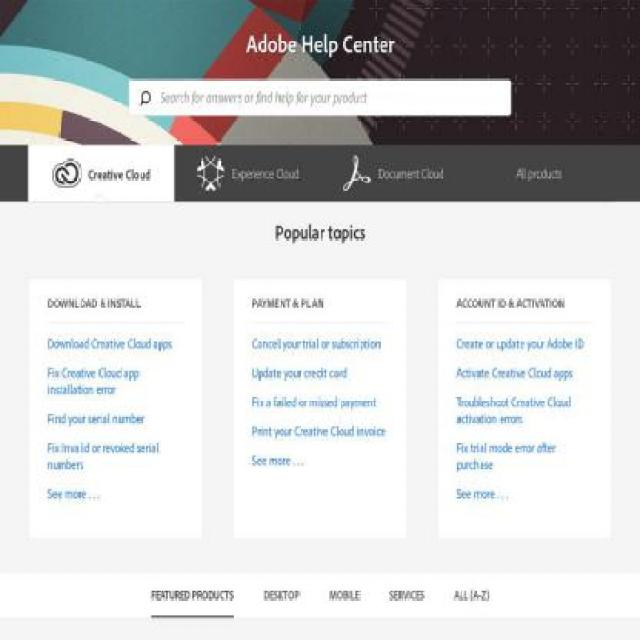button: (151, 574, 234, 614), (263, 588, 300, 603), (389, 588, 425, 603), (454, 588, 489, 603), (328, 588, 359, 603)
field: (129, 81, 511, 113), (128, 80, 161, 115)
